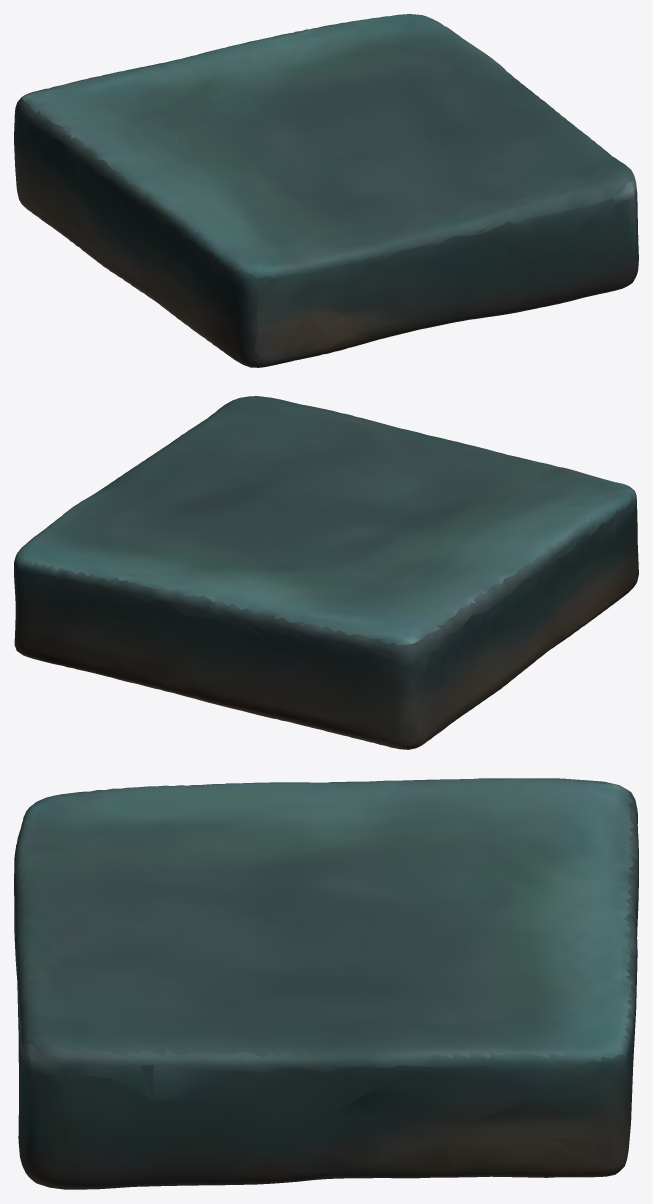
File: m24_agua_funda.glb
The picture shows the model from 3 angles, top to bottom: view 1: azimuth 30°, elevation 25°; view 2: azimuth 150°, elevation 25°; view 3: azimuth 270°, elevation 25°; orthographic projection. The views are drawn at different scales.
Parts seen in each view (by area): view 1: m24_agua_funda; view 2: m24_agua_funda; view 3: m24_agua_funda.
Boxes of the visible parts, <box> form: m24_agua_funda: <box>14,14,638,367</box>; m24_agua_funda: <box>14,396,638,749</box>; m24_agua_funda: <box>14,778,638,1189</box>.
Bounding box in the file's own units: 0.9879 × 0.2838 × 0.9789.
Materials: 1 (1 with a texture image).
